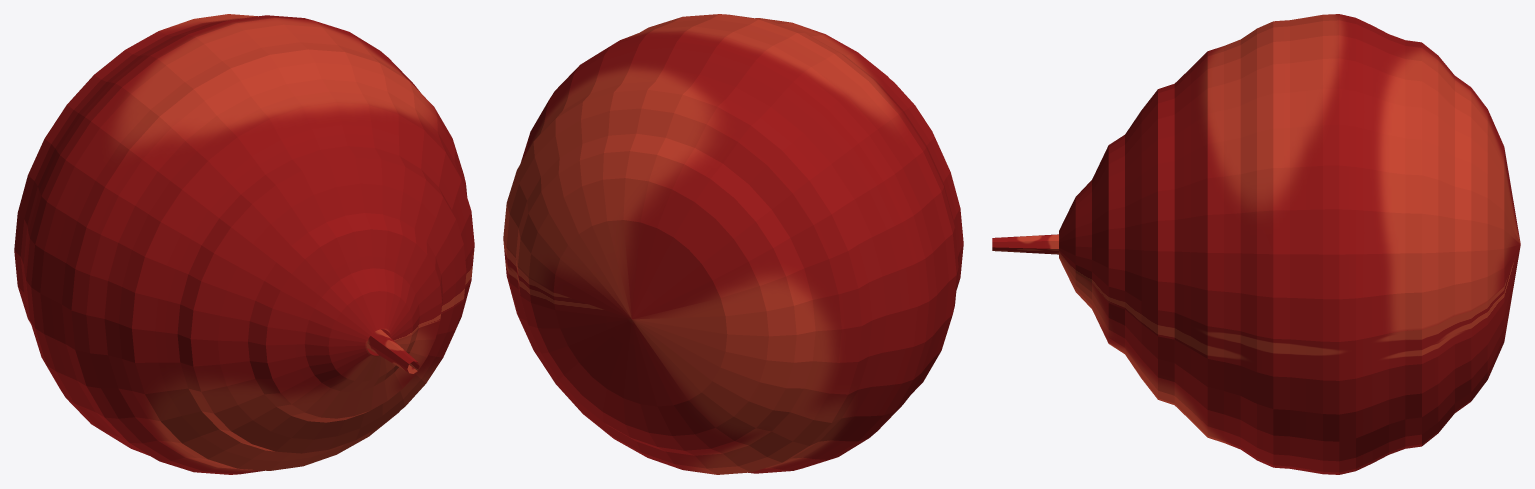
File: apple_01_realistic.obj
3 renders of one model, left to right at view 1: azimuth 30°, elevation 25°; view 2: azimuth 150°, elevation 25°; view 3: azimuth 270°, elevation 25°, orthographic. The views are drawn at different scales.
Bounding box in the file's own units: 2 × 2 × 2.29.
1 material, 1 textured.
